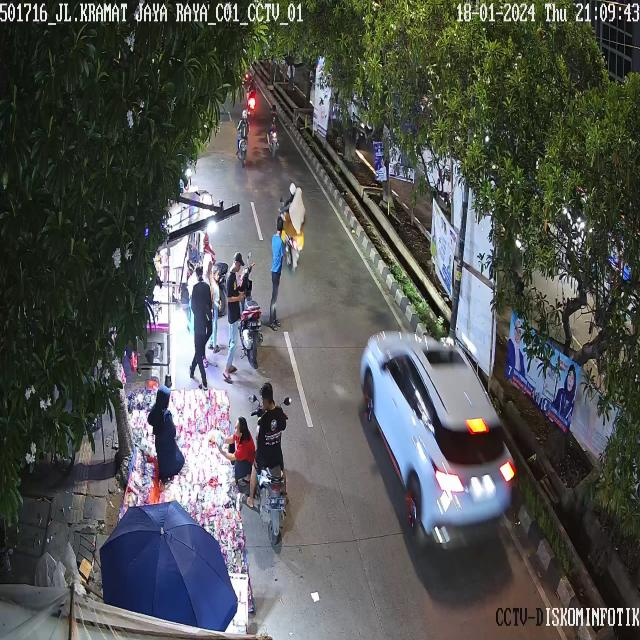Emperan: (101, 309, 251, 499)
Payung: (101, 499, 238, 635)
